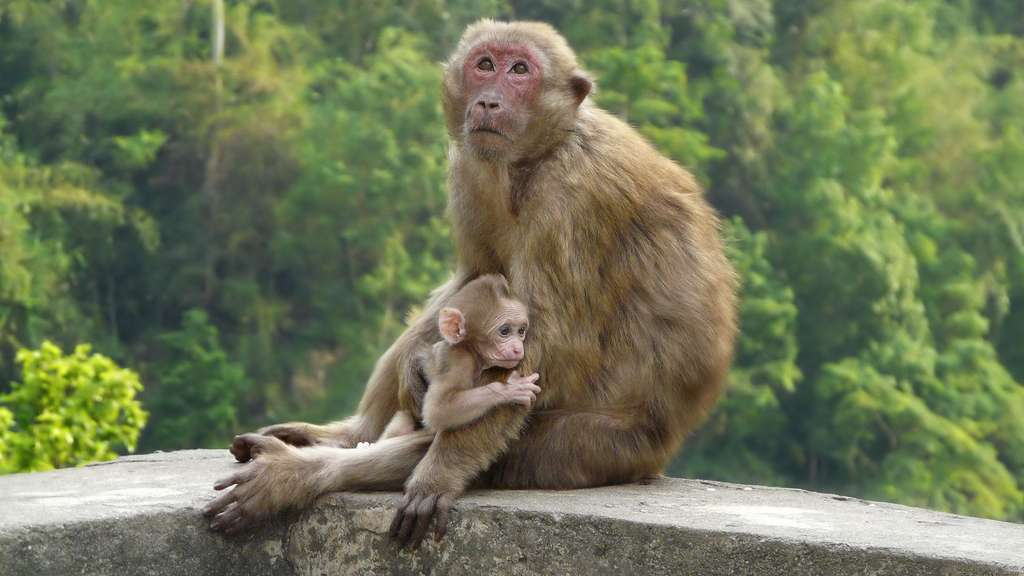monkey: (414, 15, 739, 520), (308, 273, 552, 548)
